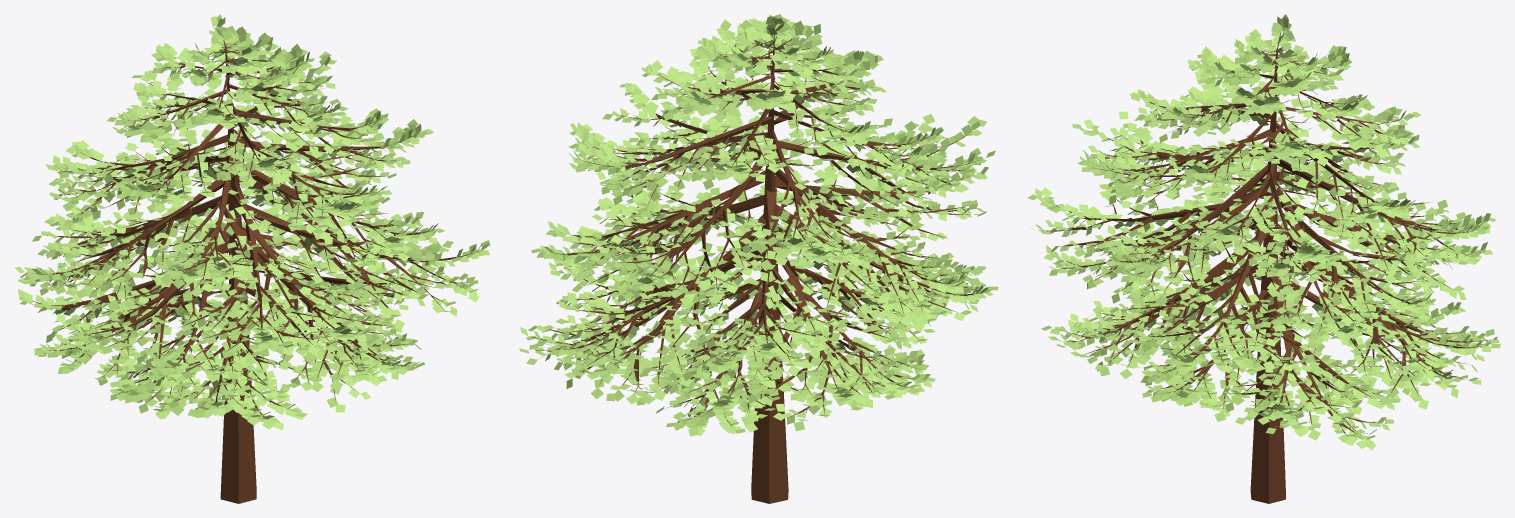
The model's file is Tree2.fbx.
3 renders of one model, left to right at view 1: azimuth 30°, elevation 25°; view 2: azimuth 150°, elevation 25°; view 3: azimuth 270°, elevation 25°, orthographic. The views are drawn at different scales.
Parts seen in each view (by area): view 1: leaves, tree; view 2: leaves, tree; view 3: leaves, tree.
Part boxes in pixels (box(x1,y1,x2,y2)): leaves: box(14, 14, 490, 430); tree: box(28, 29, 475, 503); leaves: box(519, 14, 998, 436); tree: box(528, 35, 980, 503); leaves: box(1027, 14, 1500, 450); tree: box(1039, 32, 1490, 503).
Bounding box in the file's own units: 1607 × 1767 × 1608.
